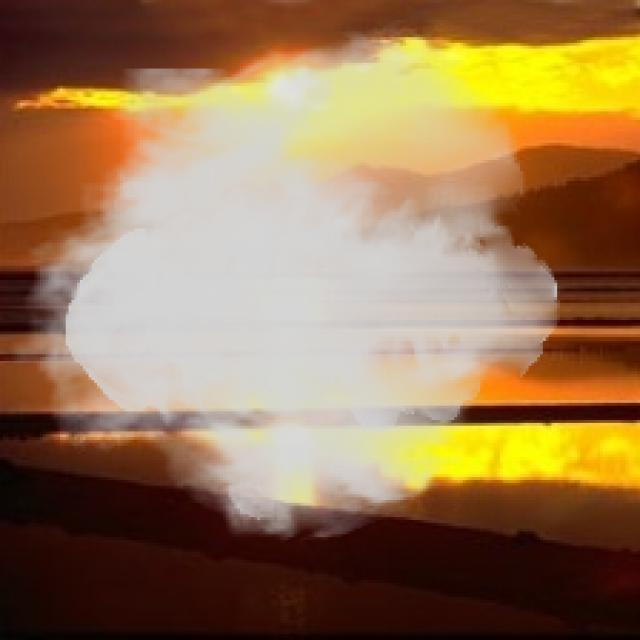Smoke: (8, 23, 560, 546)
